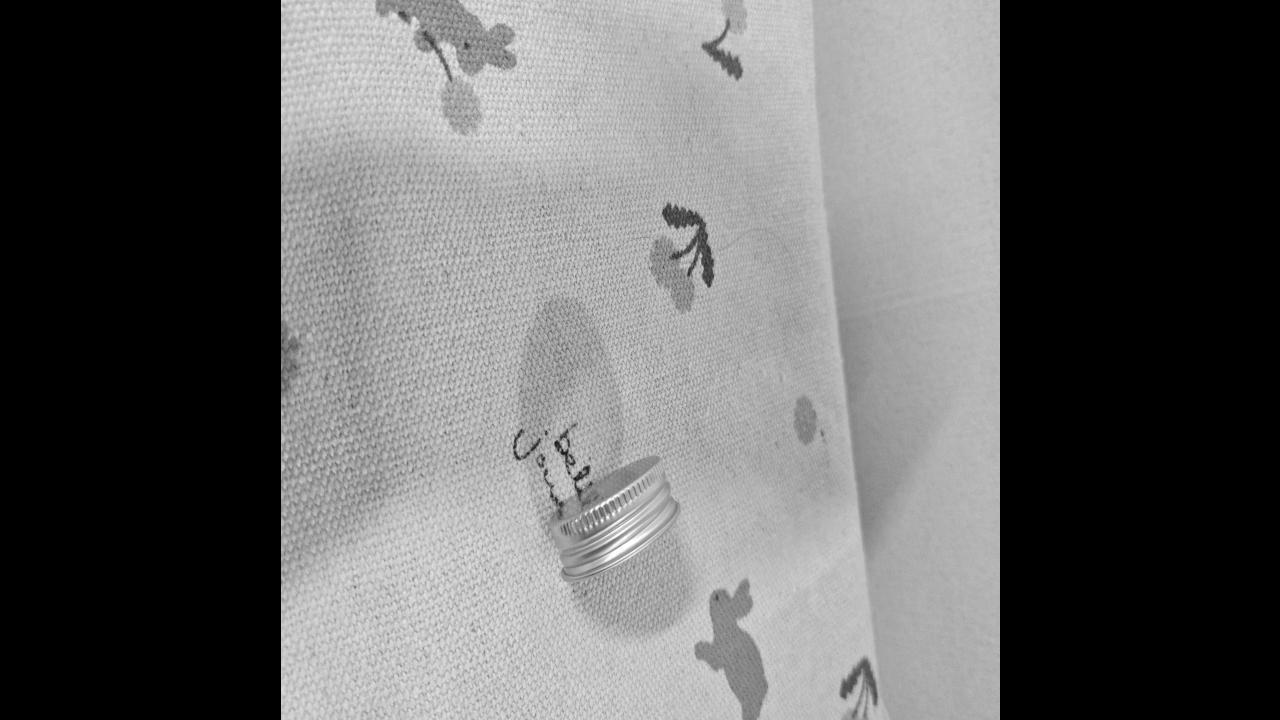bottle_cap: (558, 458, 672, 582)
